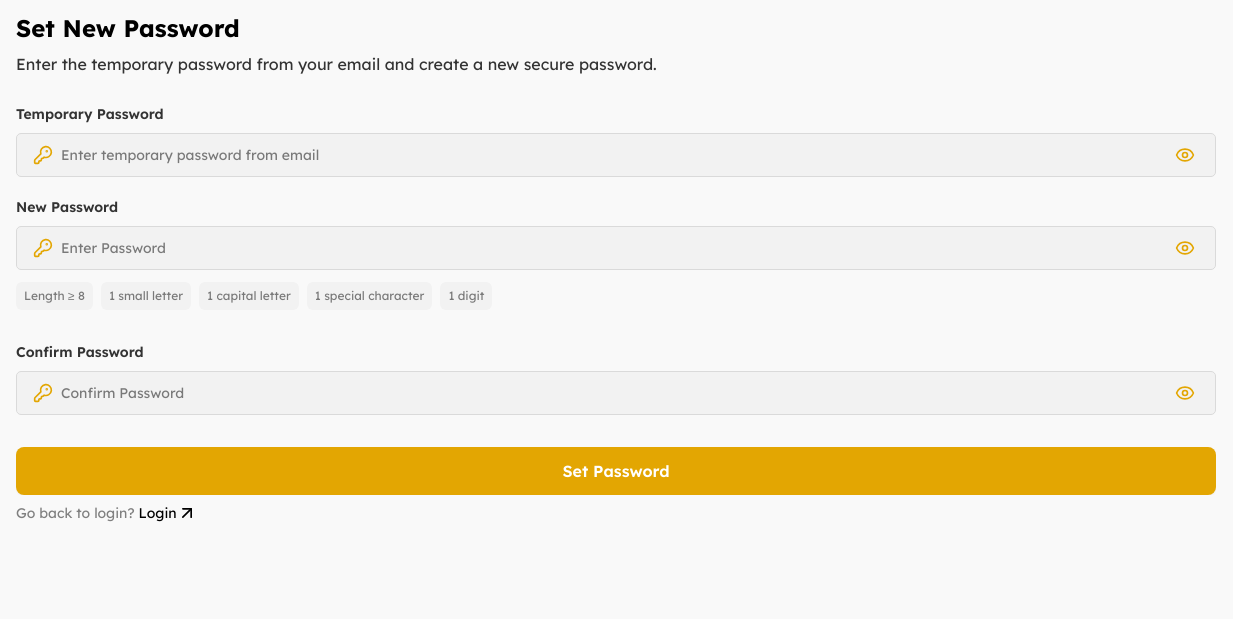
Test case: FirstLoginSetupPasswordPage › submitting is never a silent no-op › reports a mismatch rather than doing nothing
Type "Temp@1234" into the password field labelled "Temporary Password" at (612, 155), box x1=61 y1=144 x2=1163 y2=166
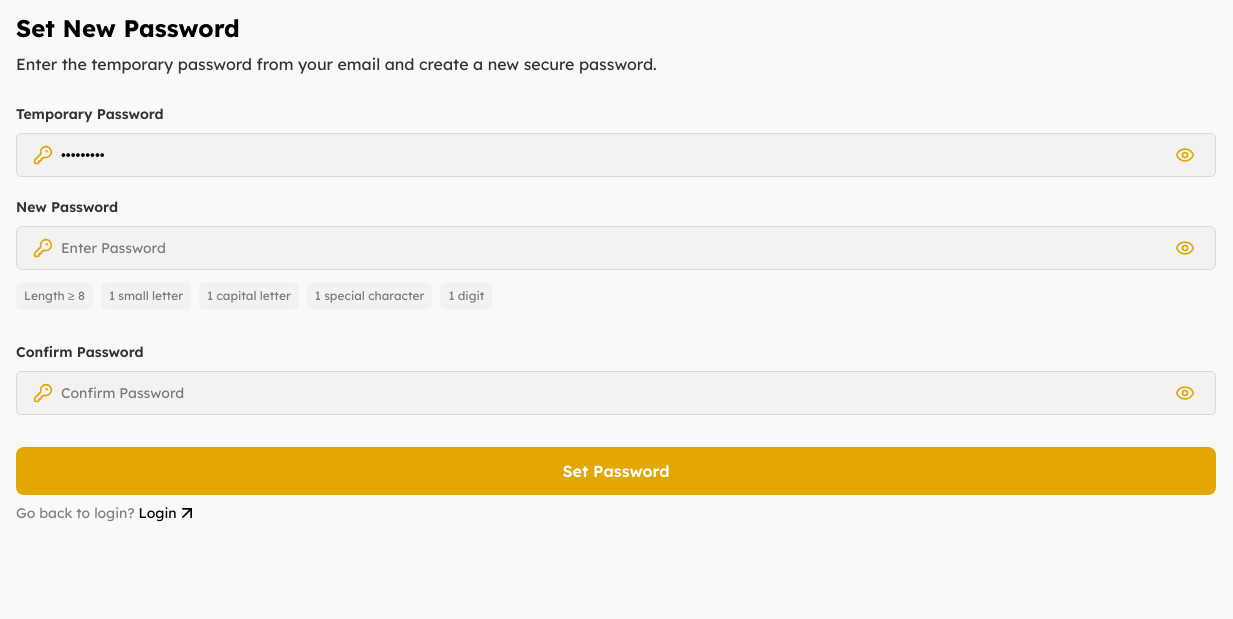
Type "TradeHarmony1!" into the password field labelled "New Password" at (612, 248), box x1=61 y1=238 x2=1163 y2=258
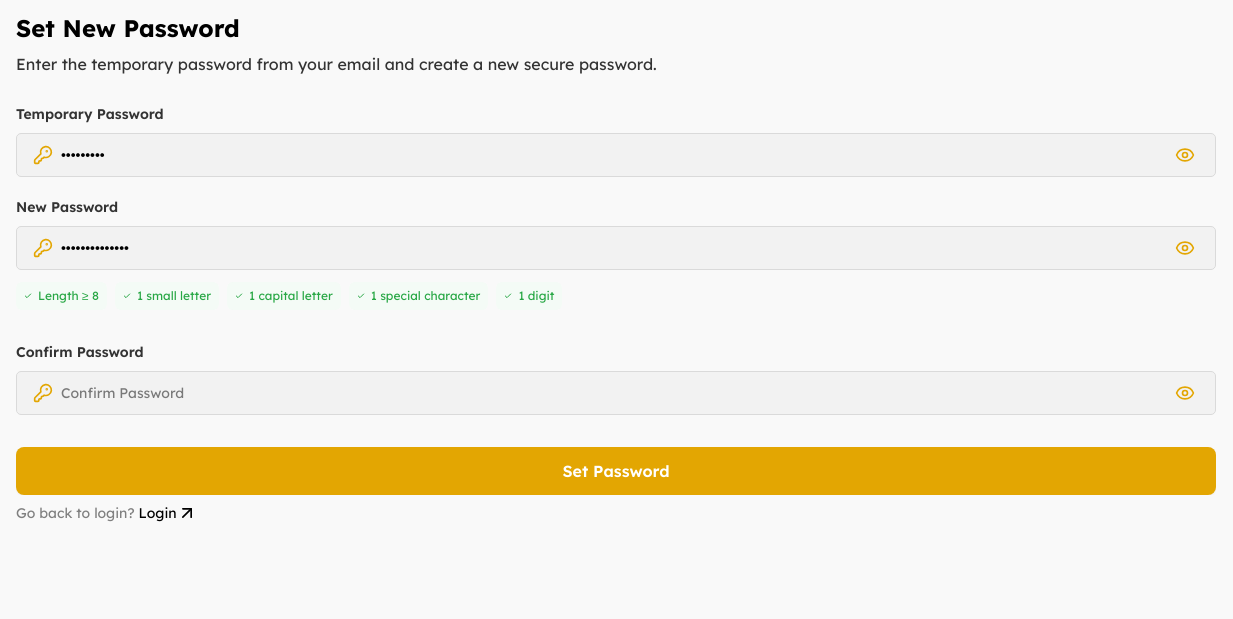
Type "Different1!" into the password field labelled "Confirm Password" at (612, 393), box x1=61 y1=382 x2=1163 y2=404
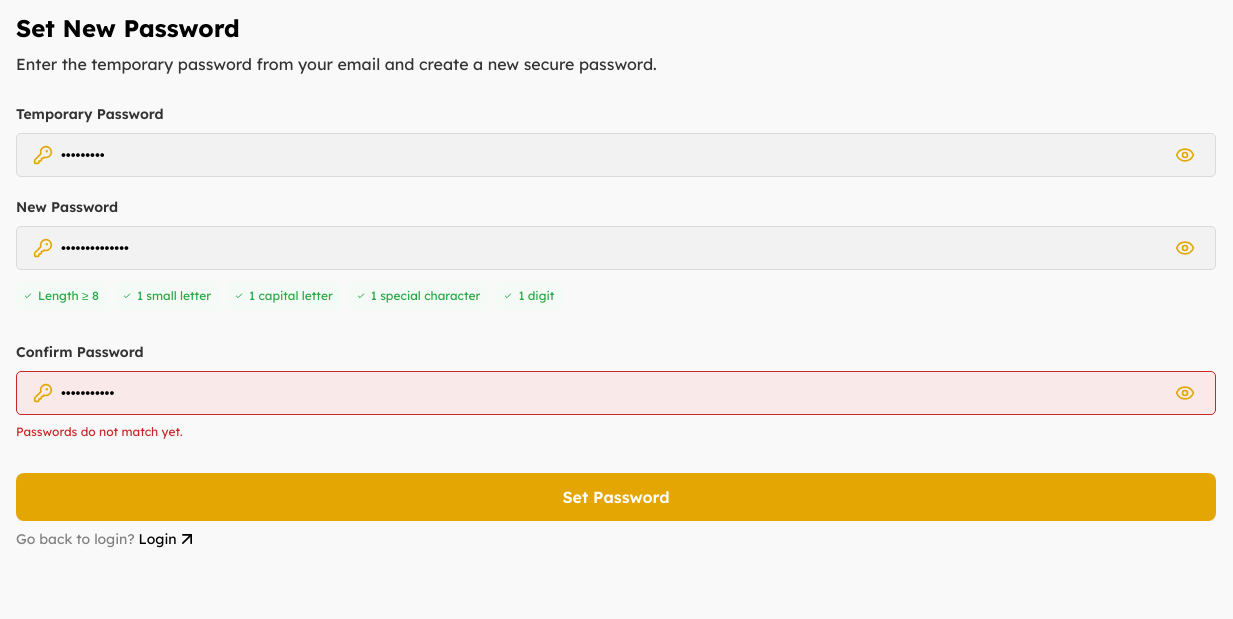
Click the button "Set Password" at (616, 497), box x1=16 y1=473 x2=1216 y2=521
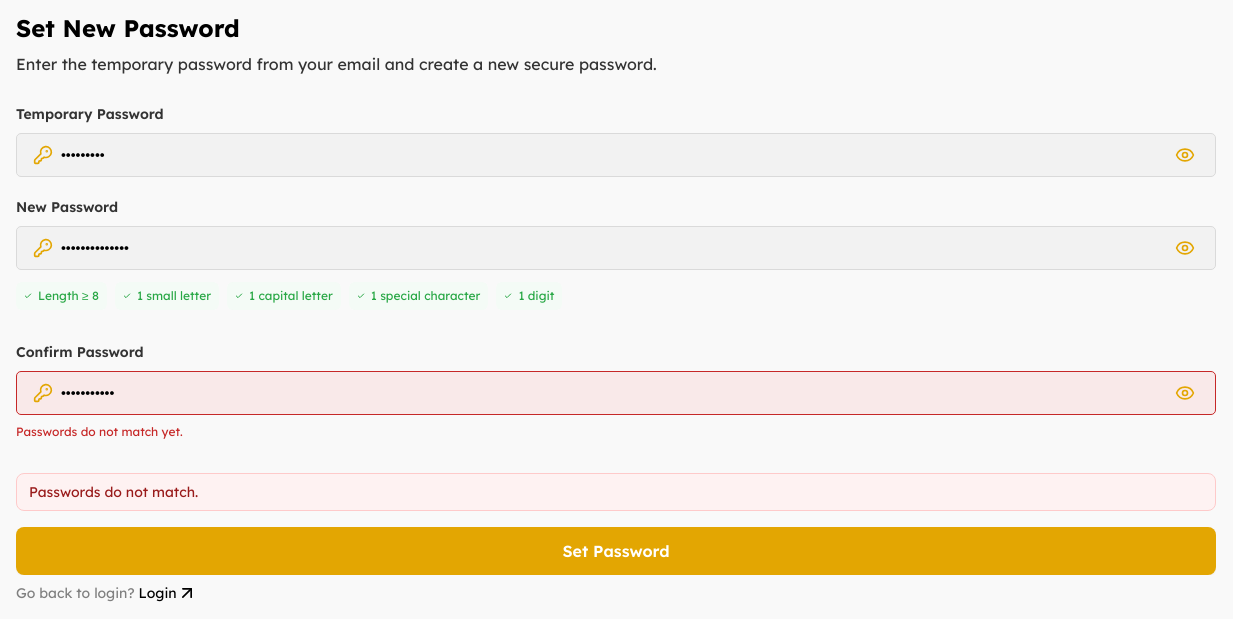
Now the text "Passwords do not match." is shown, box x1=16 y1=473 x2=1216 y2=511
